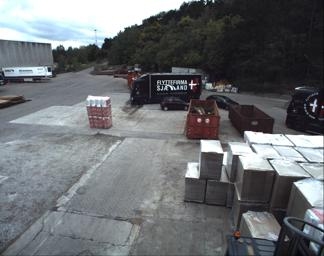rockwool_batts: (85, 92, 114, 127)
